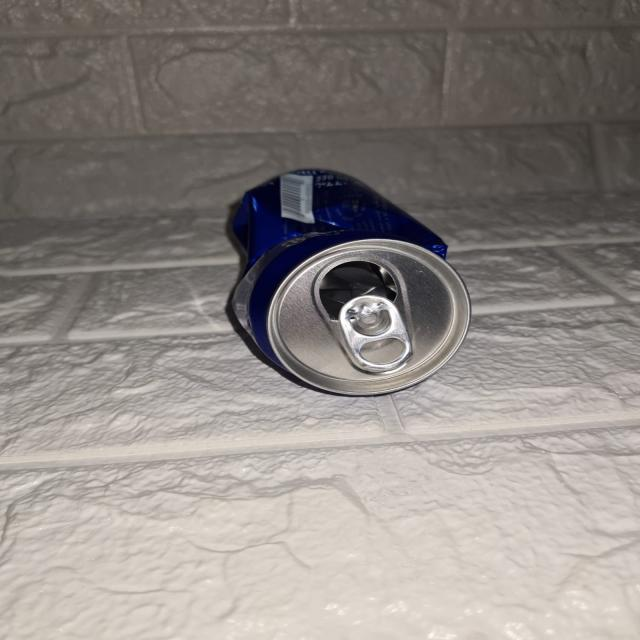can: (213, 163, 473, 396)
